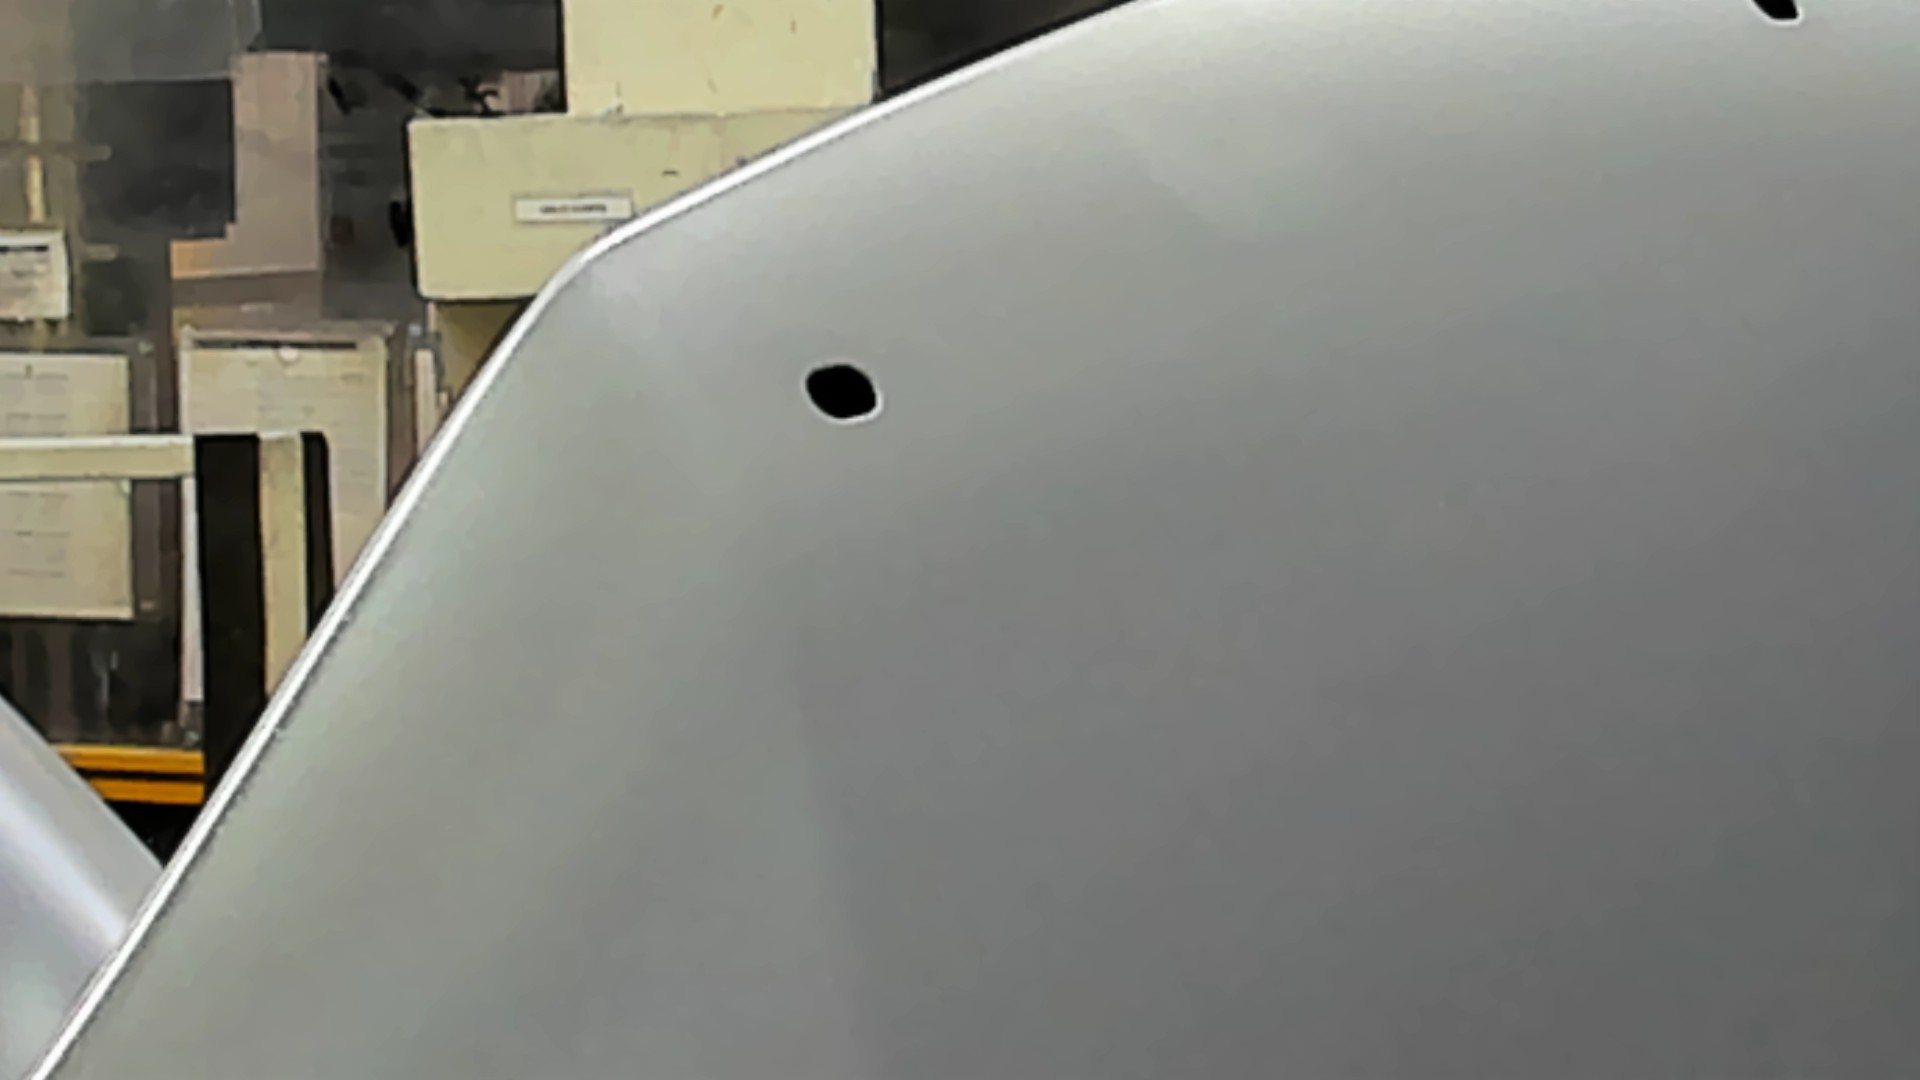amorfo: (802, 357, 886, 426), (1751, 1, 1811, 32)
